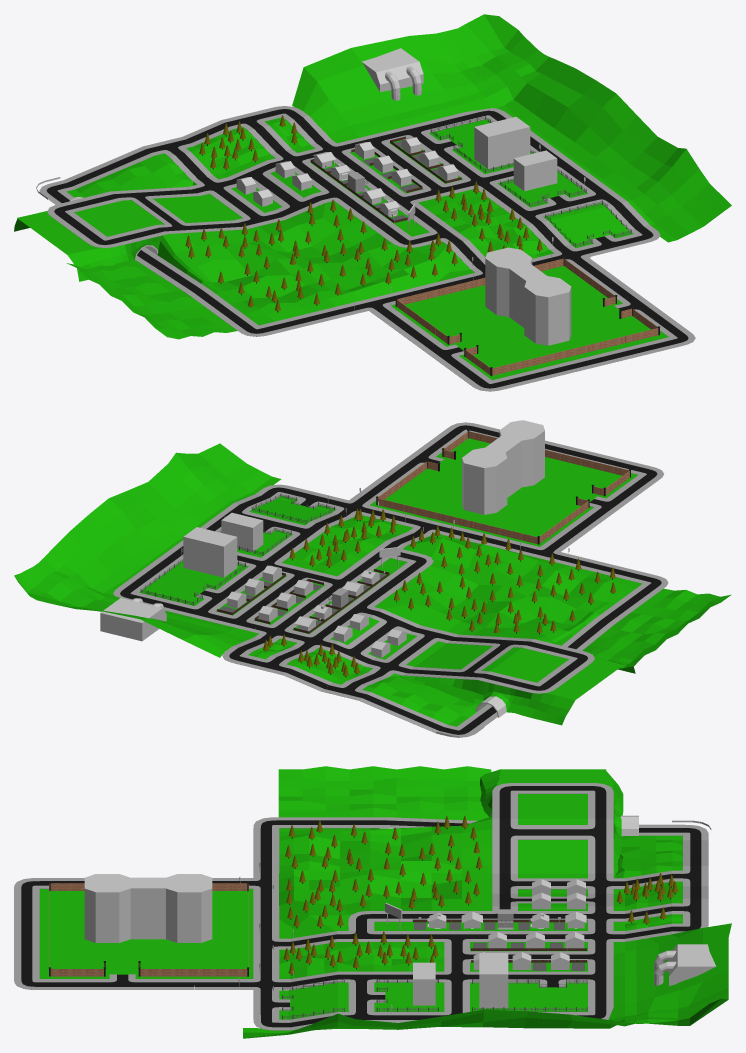
File: Streets.obj
The picture shows the model from 3 angles, top to bottom: view 1: azimuth 30°, elevation 25°; view 2: azimuth 150°, elevation 25°; view 3: azimuth 270°, elevation 25°; orthographic projection. The views are drawn at different scales.
Visible parts, largest first — view 1: Plane.008_Plane.073, Plane.067_Plane.096, Plane.082_Plane.119, Cube.117_Cube.123, Plane.114_Plane.130, Plane.044_Plane.046, Plane.112_Plane.128, Cube_Cube.012, Building2.001_Plane.086, Plane.053_Plane.067, Plane.107_Plane.037, Plane.109_Plane.059 (+28 smaller); view 2: Plane.008_Plane.073, Plane.067_Plane.096, Plane.082_Plane.119, Cube.117_Cube.123, Plane.114_Plane.130, Plane.111_Plane.127, Plane.044_Plane.046, Plane.112_Plane.128, Cube_Cube.012, Building1_Plane.013, Cube.225_Cube.230, Plane.107_Plane.037 (+29 smaller); view 3: Plane.067_Plane.096, Plane.008_Plane.073, Plane.082_Plane.119, Plane.114_Plane.130, Cube.117_Cube.123, Plane.044_Plane.046, Plane.109_Plane.059, Building1_Plane.013, Plane.112_Plane.128, Plane.107_Plane.037, Building2.001_Plane.086, Cube_Cube.012 (+71 smaller).
Boxes of the visible parts, x1=… form: Plane.008_Plane.073: x1=292, y1=14, x2=731, y2=242; Plane.067_Plane.096: x1=157, y1=201, x2=474, y2=325; Plane.082_Plane.119: x1=392, y1=266, x2=668, y2=380; Cube.117_Cube.123: x1=485, y1=247, x2=571, y2=345; Plane.114_Plane.130: x1=66, y1=260, x2=237, y2=339; Plane.044_Plane.046: x1=418, y1=189, x2=554, y2=258; Plane.112_Plane.128: x1=66, y1=153, x2=193, y2=197; Cube_Cube.012: x1=474, y1=117, x2=530, y2=168; Building2.001_Plane.086: x1=543, y1=203, x2=633, y2=247; Plane.053_Plane.067: x1=186, y1=127, x2=275, y2=179; Plane.107_Plane.037: x1=74, y1=200, x2=164, y2=236; Plane.109_Plane.059: x1=153, y1=194, x2=242, y2=223; Plane.008_Plane.073: x1=14, y1=443, x2=281, y2=657; Plane.067_Plane.096: x1=374, y1=533, x2=642, y2=645; Plane.082_Plane.119: x1=370, y1=438, x2=637, y2=546; Cube.117_Cube.123: x1=462, y1=420, x2=544, y2=514; Plane.114_Plane.130: x1=582, y1=588, x2=731, y2=668; Plane.111_Plane.127: x1=390, y1=673, x2=574, y2=725; Plane.044_Plane.046: x1=282, y1=515, x2=412, y2=576; Plane.112_Plane.128: x1=362, y1=676, x2=484, y2=726; Cube_Cube.012: x1=183, y1=527, x2=237, y2=577; Building1_Plane.013: x1=139, y1=560, x2=248, y2=606; Cube.225_Cube.230: x1=100, y1=598, x2=166, y2=641; Plane.107_Plane.037: x1=481, y1=647, x2=568, y2=682; Plane.067_Plane.096: x1=279, y1=816, x2=492, y2=938; Plane.008_Plane.073: x1=243, y1=923, x2=731, y2=1038; Plane.082_Plane.119: x1=39, y1=889, x2=253, y2=978; Plane.114_Plane.130: x1=278, y1=766, x2=491, y2=820; Cube.117_Cube.123: x1=84, y1=874, x2=212, y2=942; Plane.044_Plane.046: x1=279, y1=942, x2=444, y2=978; Plane.109_Plane.059: x1=518, y1=840, x2=587, y2=878; Building1_Plane.013: x1=470, y1=982, x2=587, y2=1011; Plane.112_Plane.128: x1=615, y1=835, x2=682, y2=878; Plane.107_Plane.037: x1=518, y1=794, x2=587, y2=824; Building2.001_Plane.086: x1=279, y1=982, x2=348, y2=1019; Cube_Cube.012: x1=479, y1=953, x2=508, y2=1007.
Size of the model in its own units: 137 by 14.81 by 148.
